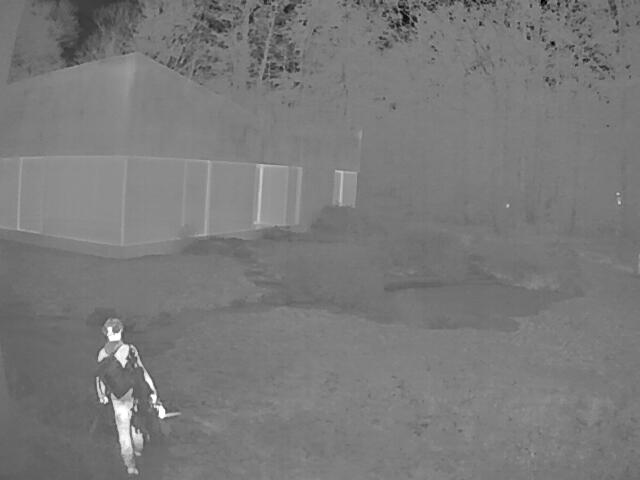person: (92, 318, 165, 479)
